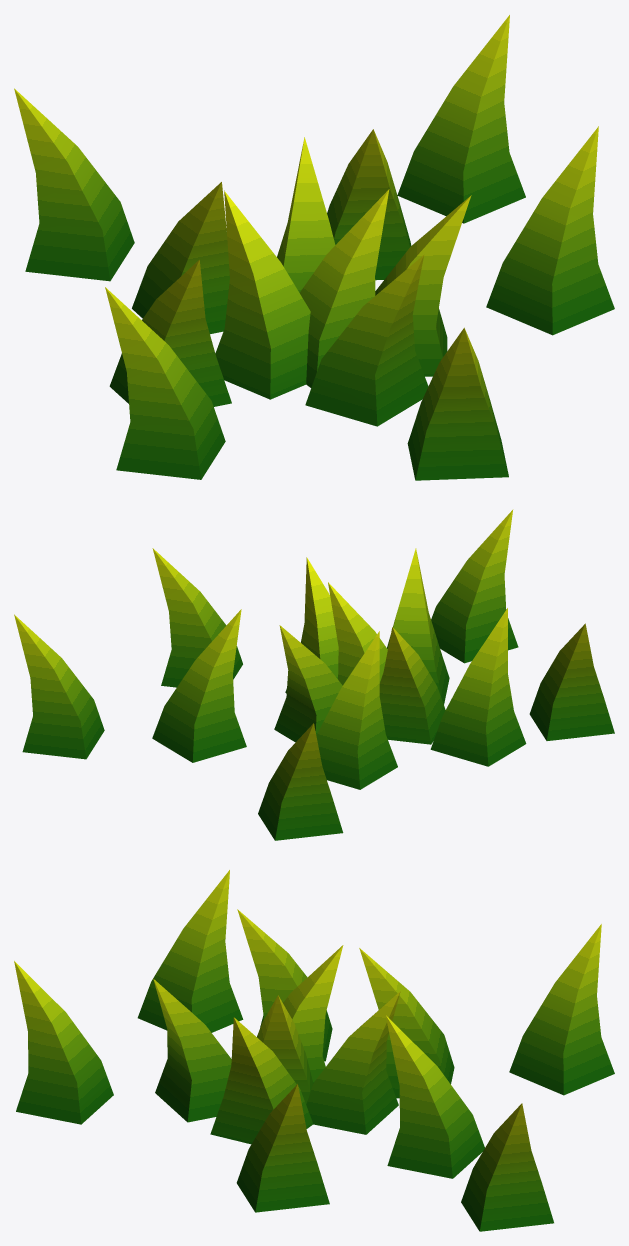
File: grass2.FBX
3 views of the same model, one above another, from view 1: azimuth 30°, elevation 25°; view 2: azimuth 150°, elevation 25°; view 3: azimuth 270°, elevation 25° (orthographic). The views are drawn at different scales.
Parts seen in each view (by area): view 1: grass2; view 2: grass2; view 3: grass2.
Part boxes in pixels (x1,y1,x2,y2): grass2: (14, 15, 614, 480); grass2: (14, 509, 614, 840); grass2: (14, 870, 614, 1231).
Bounding box in the file's own units: 18.18 × 4.71 × 19.3.
